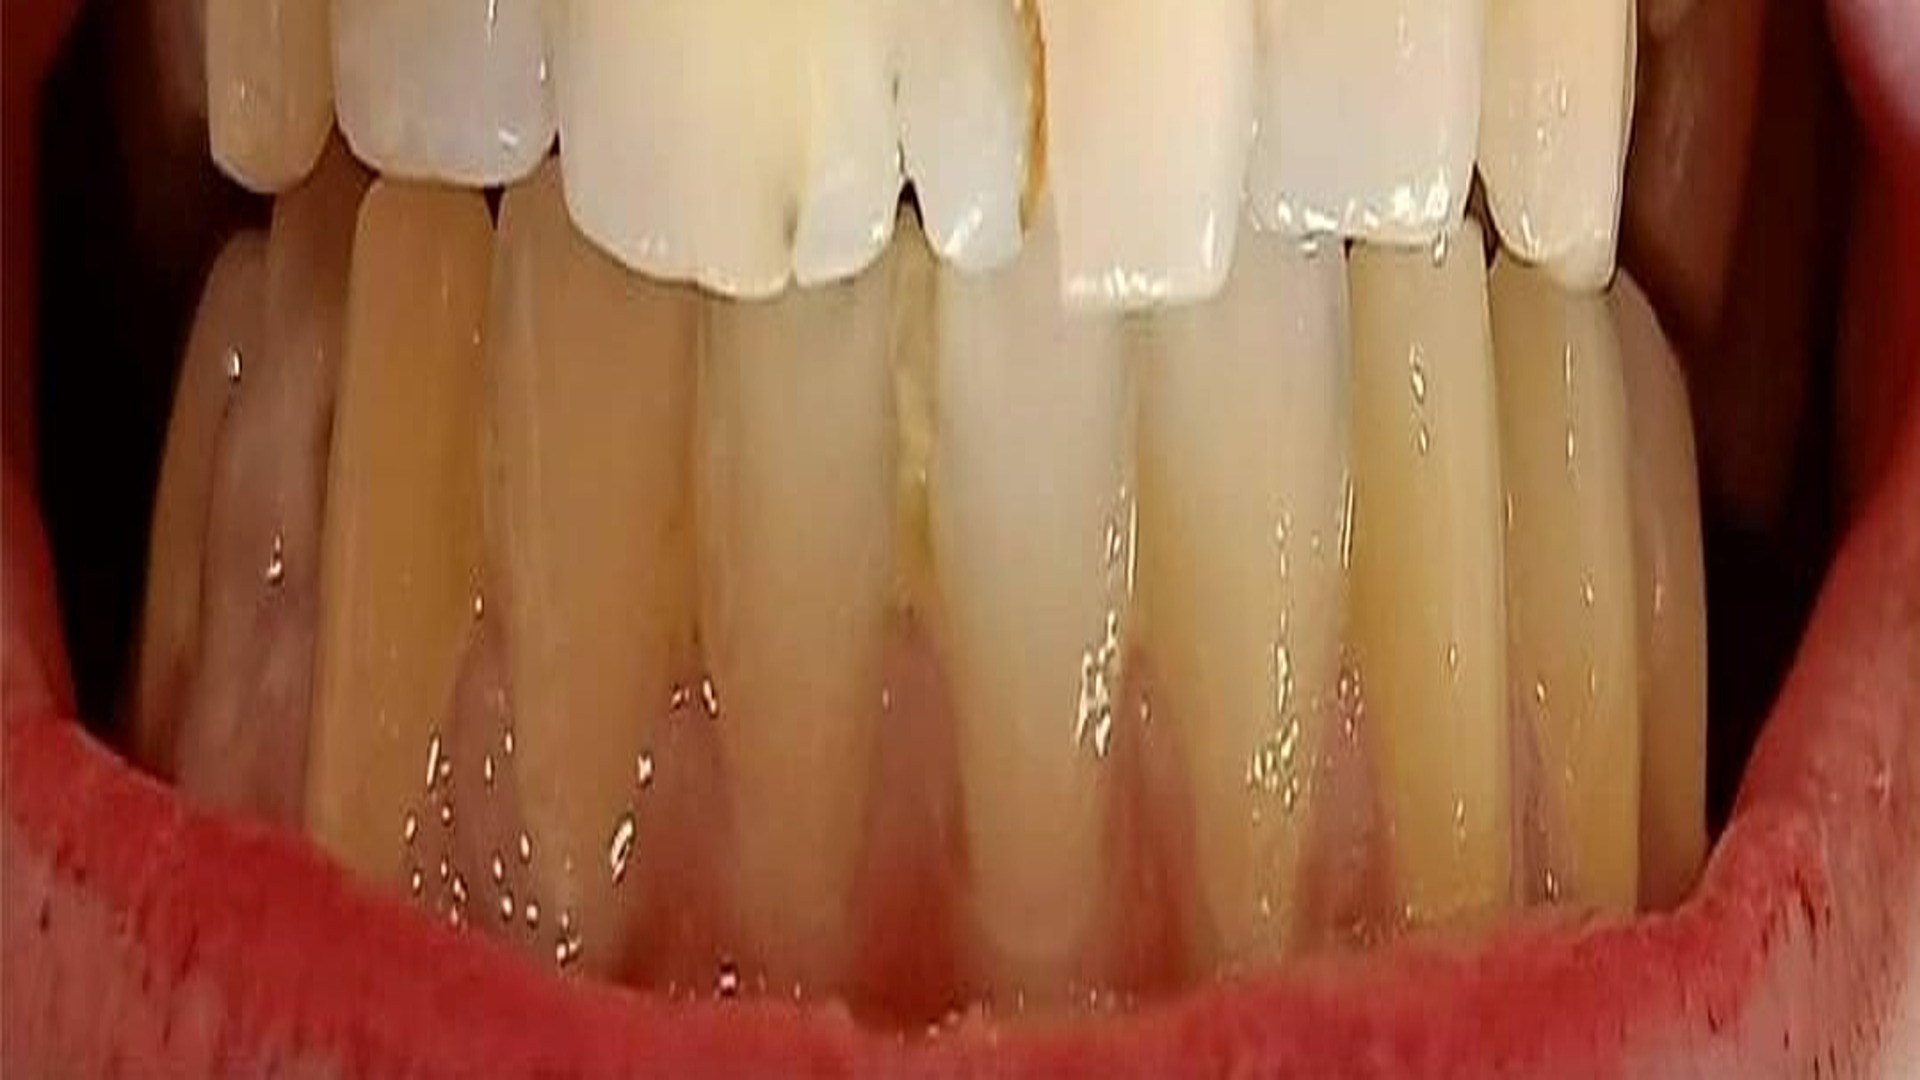tooth: (304, 177, 495, 913), (1348, 219, 1508, 932)
